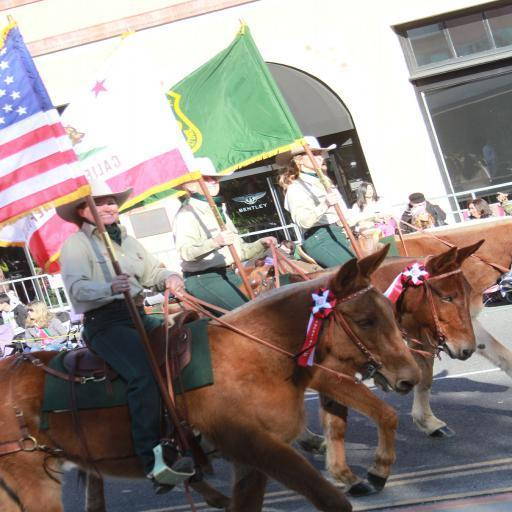horse: (80, 240, 484, 512), (240, 233, 512, 454)
